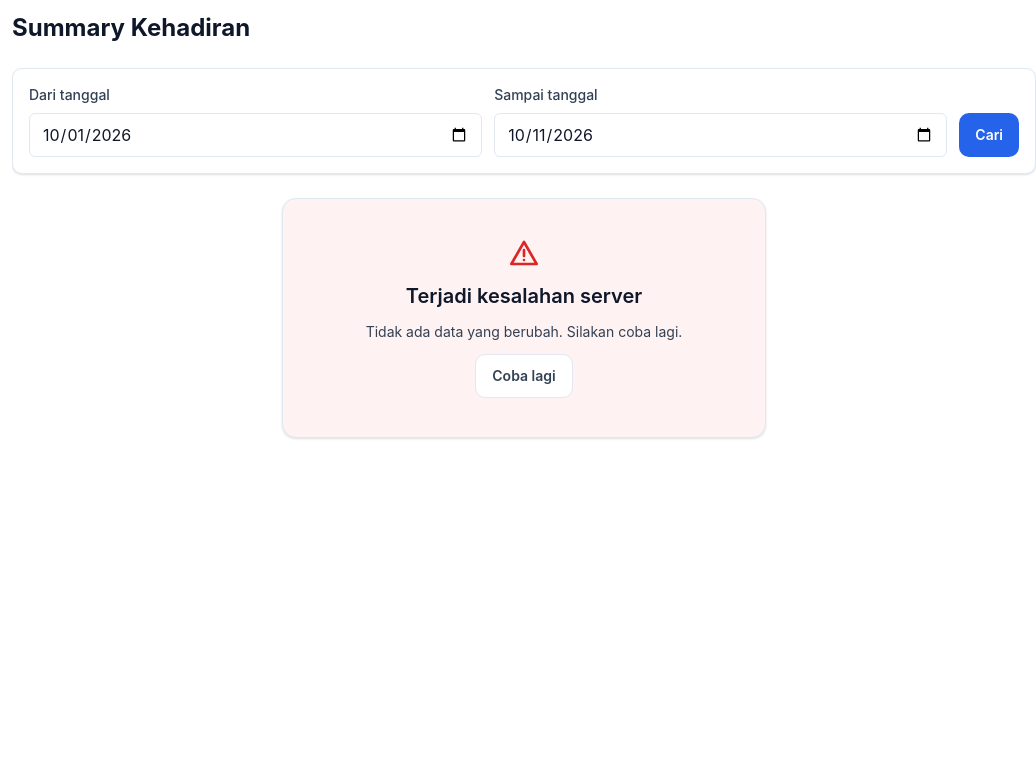
Test: SummaryPage › offers a retry when the summary request fails
Expected: the message with test id "server-error-state" is shown, [282,198,766,438]
Click the button with test id "retry-button" at (524, 376), box [475,354,573,398]
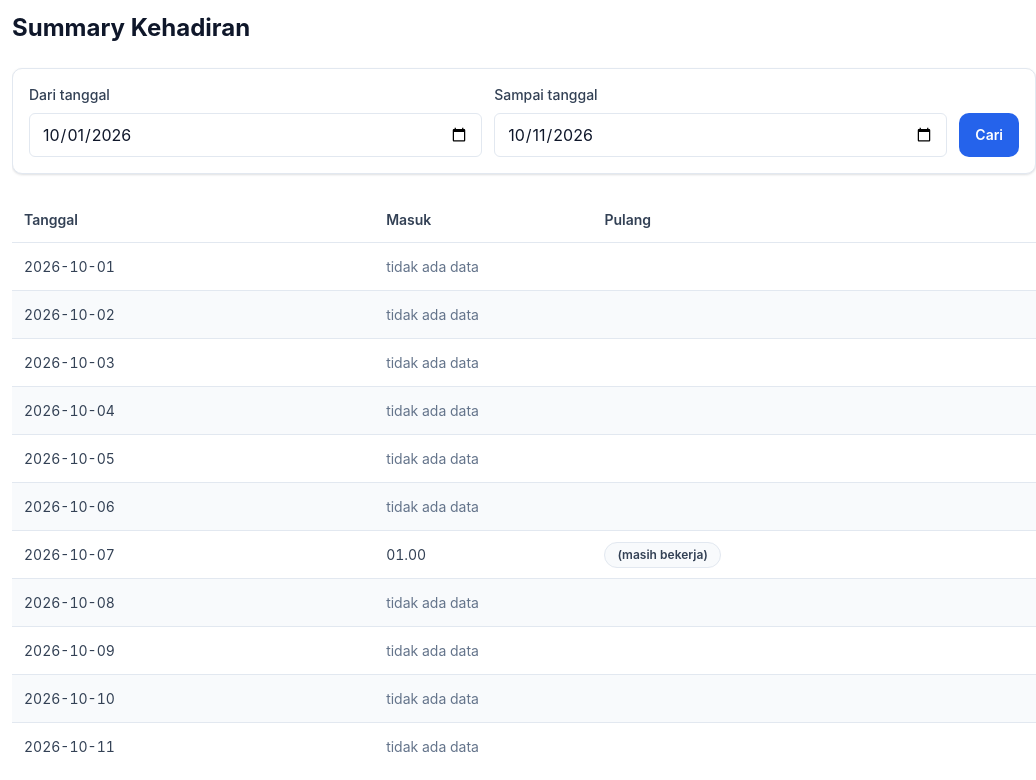
Now the table with test id "summary-table" is shown
